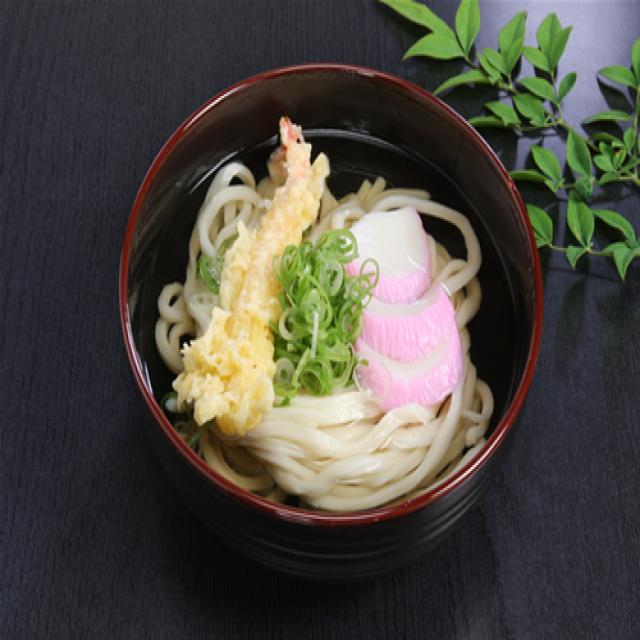面条主食: (147, 94, 518, 544)
